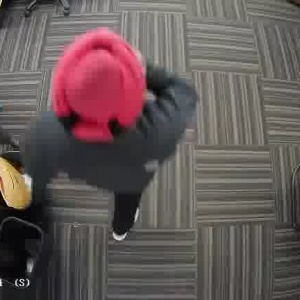person: (29, 40, 189, 205)
